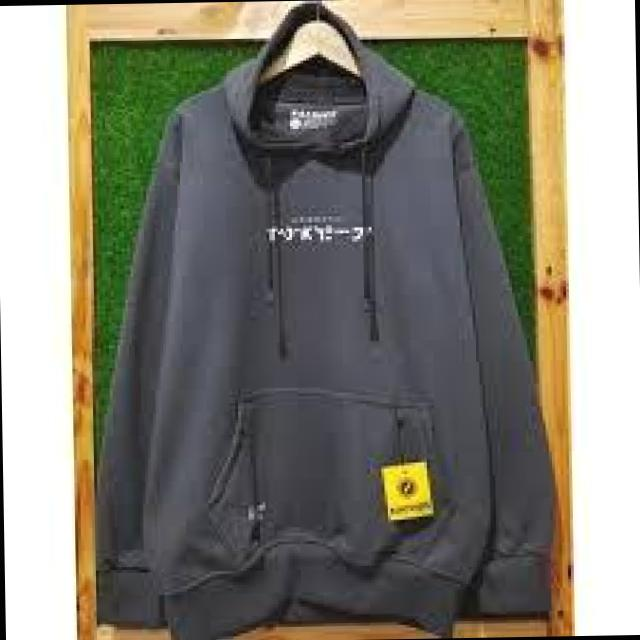sweater: (63, 10, 566, 640)
